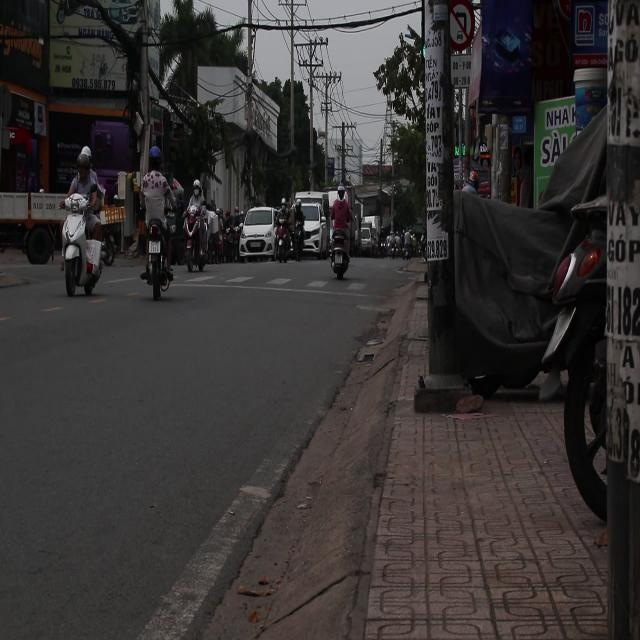car: (241, 208, 279, 262)
motorbike: (58, 191, 107, 299), (142, 221, 176, 300), (327, 230, 352, 282), (272, 205, 294, 264)
truck: (294, 194, 331, 253)
